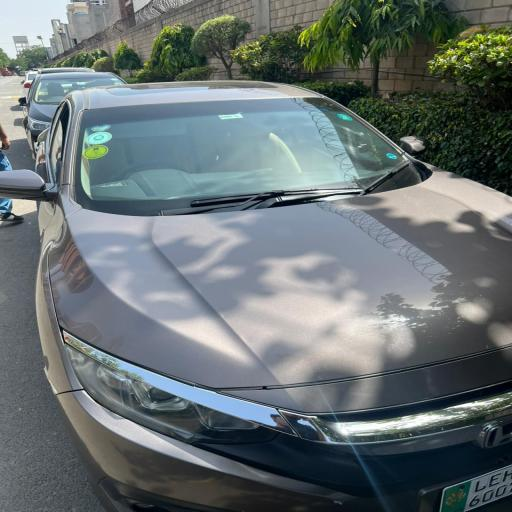bnu_sticker: (83, 144, 110, 161)
